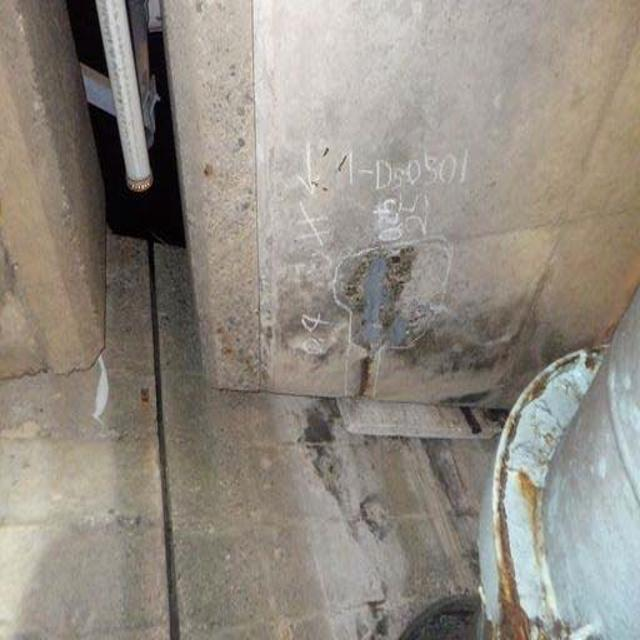corrosion: (480, 397, 563, 640)
spalling: (336, 233, 463, 366)
